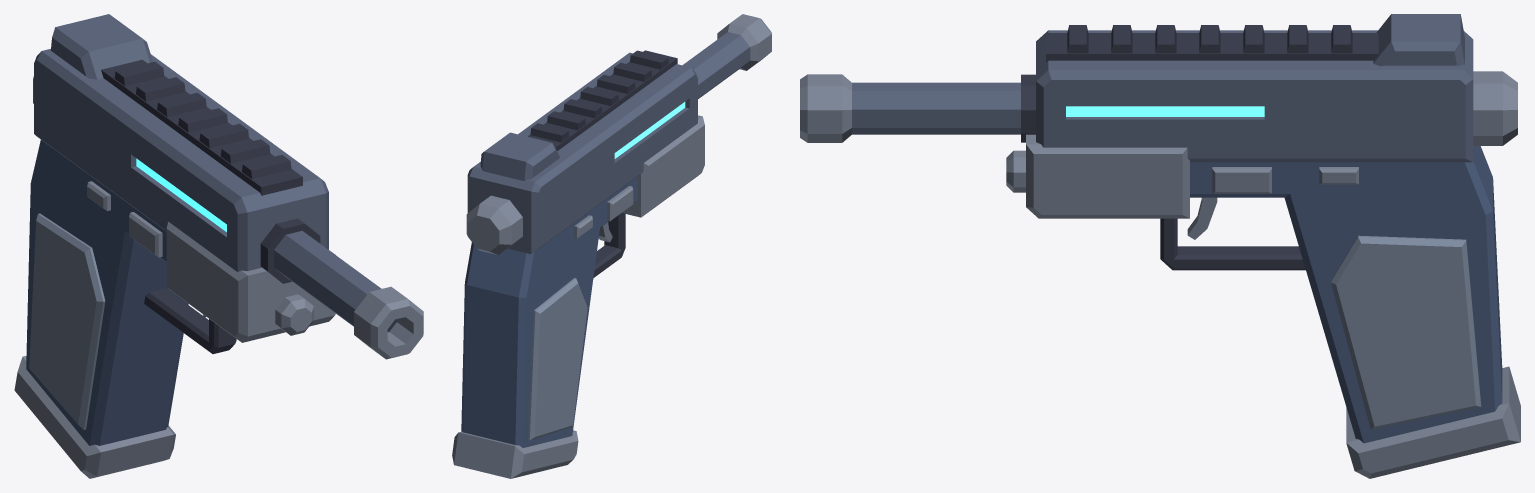
The model's file is sidearm-f35bb5.glb.
3 renders of one model, left to right at view 1: azimuth 30°, elevation 25°; view 2: azimuth 150°, elevation 25°; view 3: azimuth 270°, elevation 25°, orthographic. The views are drawn at different scales.
Visible parts, largest first — view 1: slide-metal, body-matte, body-metal, slide-glow; view 2: slide-metal, body-matte, body-metal, slide-glow; view 3: slide-metal, body-matte, body-metal, slide-glow.
Part boxes in pixels (x1,y1,x2,y2): slide-metal: (33,14,328,283); body-matte: (26,140,188,445); body-metal: (14,181,423,478); slide-glow: (136,158,226,231); slide-metal: (466,50,697,255); body-matte: (461,176,637,447); body-metal: (452,14,771,478); slide-glow: (614,102,685,158); slide-metal: (1021,14,1517,162); body-matte: (1190,146,1502,443); body-metal: (800,74,1520,478); slide-glow: (1066,106,1264,116).
Bounding box in the file's own units: 0.048 × 0.1923 × 0.2902.
